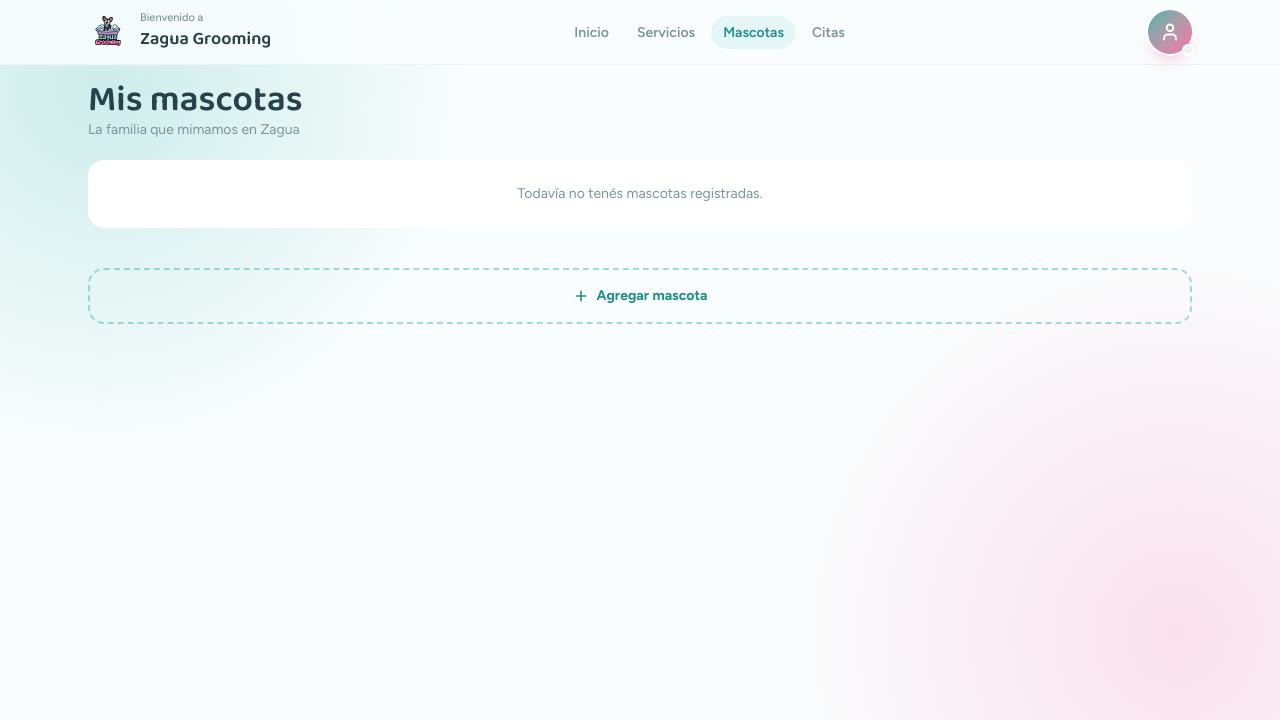
Scenario: Mascotas › no deja guardar sin nombre y registra una mascota correctamente
Click the button "Agregar mascota": [640, 296] box [88, 268, 1192, 324]
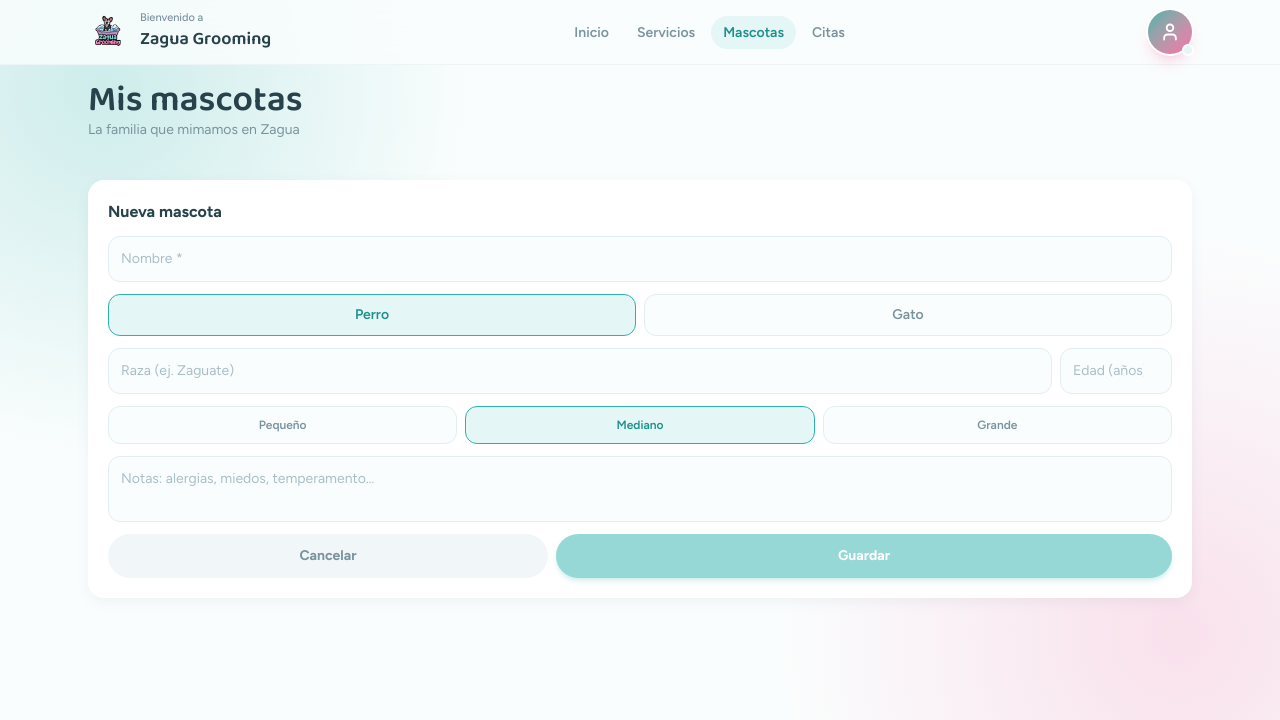
Expected: the heading "Nueva mascota" is shown, [108, 202, 222, 221]
Expected: the button "Guardar" is disabled, [556, 534, 1172, 578]
In the field with placeholder "Nombre *": [640, 259] box [108, 236, 1172, 282], type "Luna"
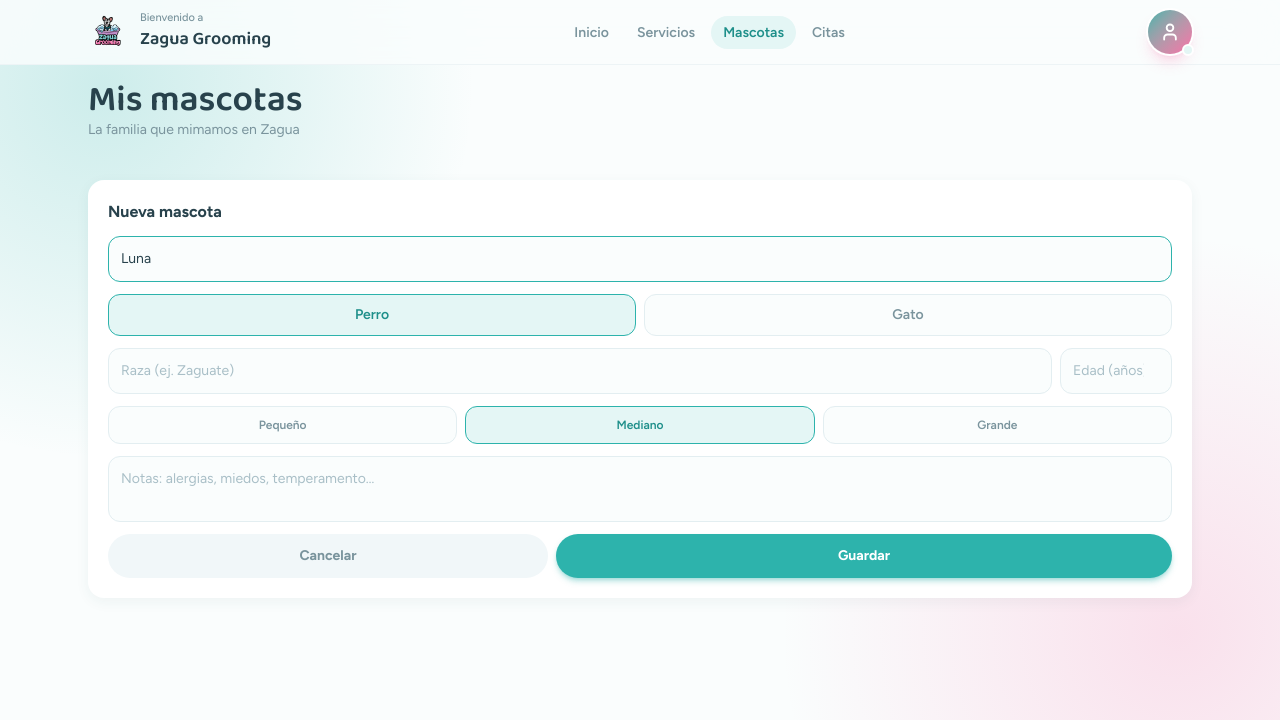
In the field with placeholder "Raza (ej. Zaguate)": [580, 371] box [108, 348, 1052, 394], type "Zaguate"
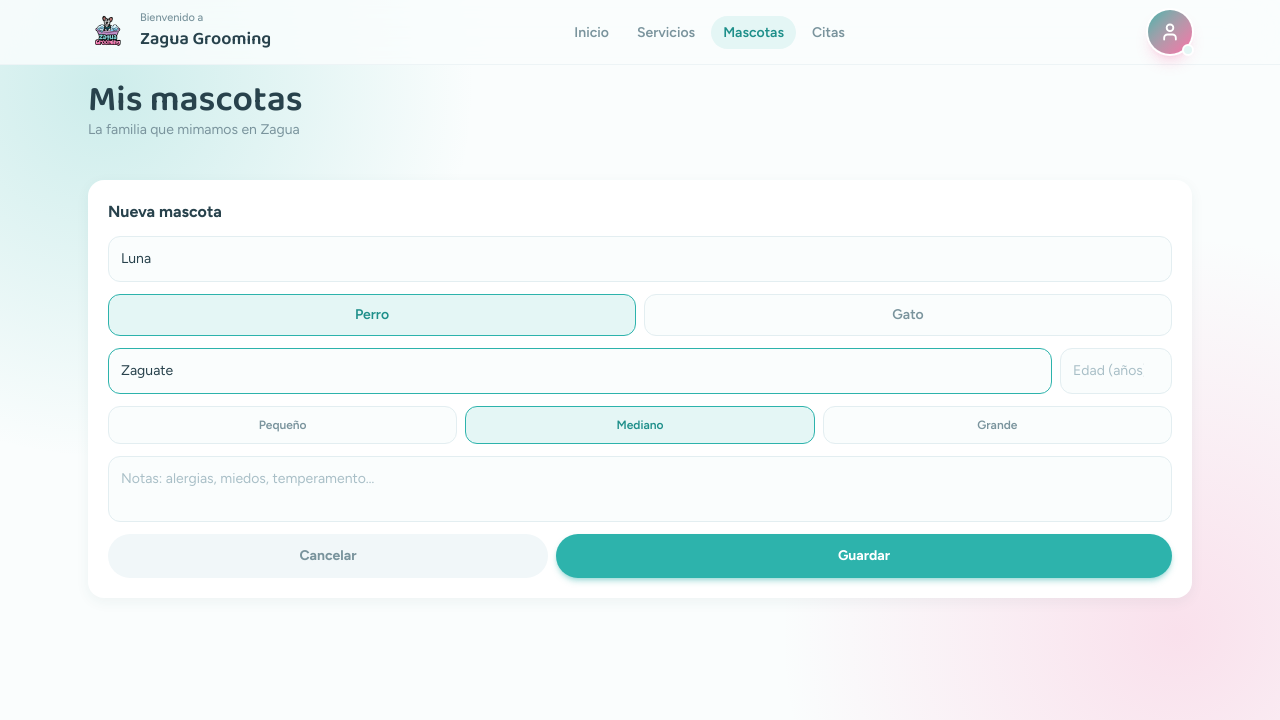
Expected: the text "Guardar" is enabled
Click the button "Guardar": [864, 556] box [556, 534, 1172, 578]
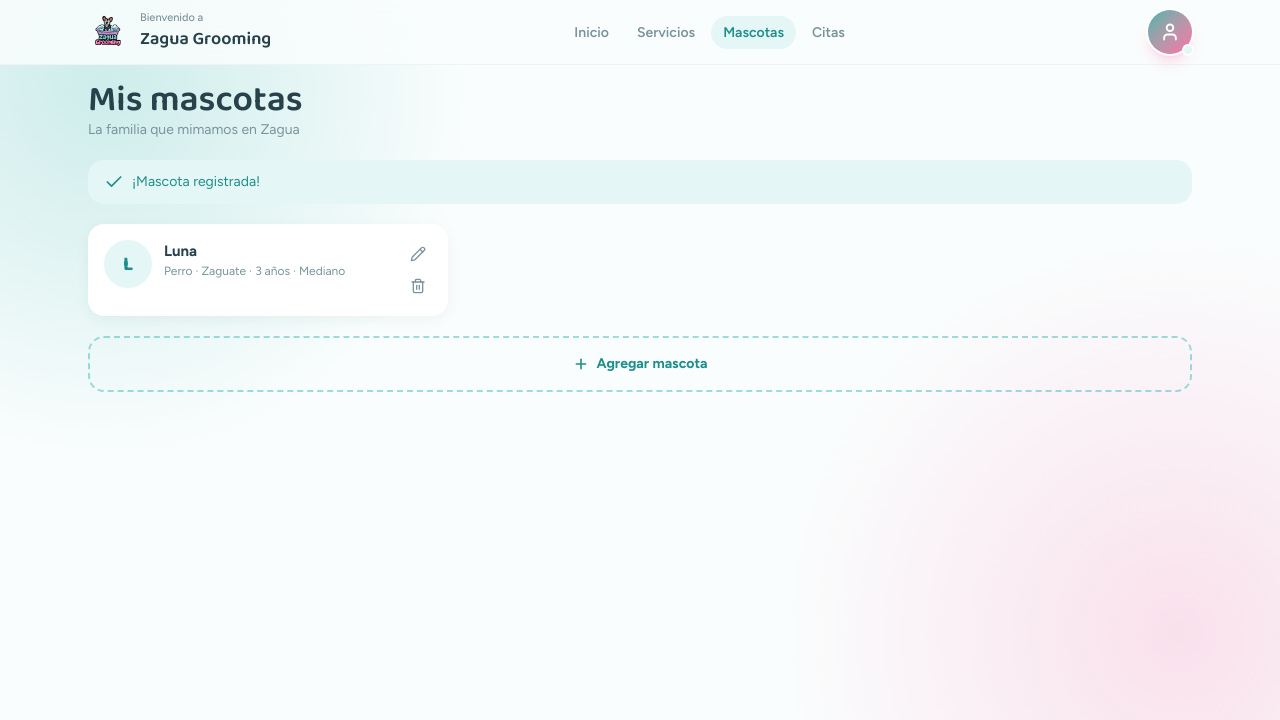
Expected: the text "¡Mascota registrada!" is shown, [88, 160, 1192, 204]
Expected: the heading "Luna" is shown, [164, 242, 197, 260]
